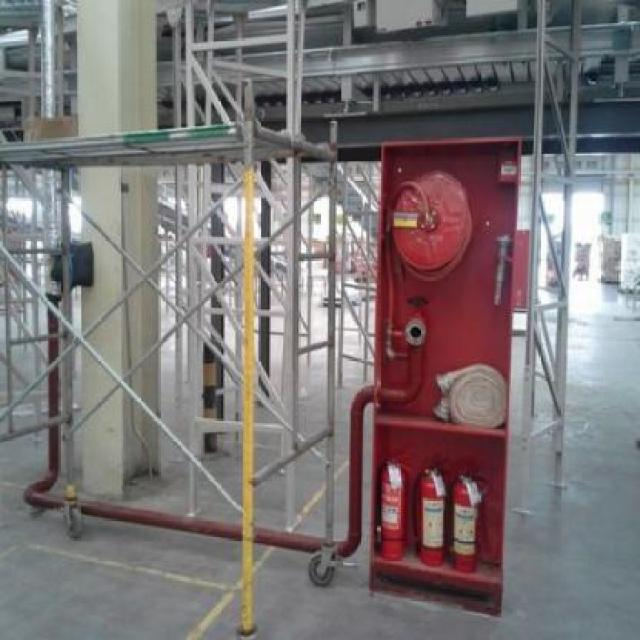firehydrant: (364, 131, 524, 624)
